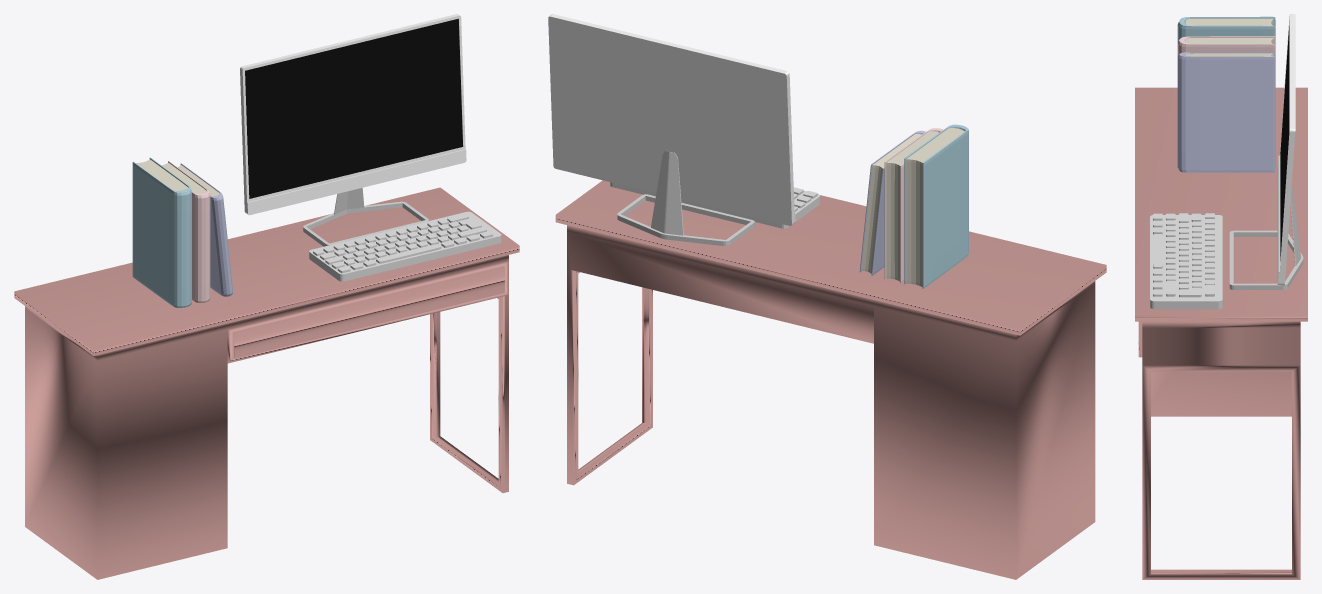
Rendered from desk.glb.
The picture shows the model from 3 angles, left to right: view 1: azimuth 30°, elevation 25°; view 2: azimuth 150°, elevation 25°; view 3: azimuth 270°, elevation 25°; orthographic projection. The views are drawn at different scales.
Parts seen in each view (by area): view 1: Desk, Monitor, Book1, Keyboard, Book2, Book3; view 2: Desk, Monitor, Book1, Book2, Book3, Keyboard; view 3: Desk, Book3, Keyboard, Monitor, Book1, Book2.
Boxes of the visible parts, x1=… form: Desk: x1=14, y1=187, x2=519, y2=579; Monitor: x1=240, y1=14, x2=466, y2=246; Book1: x1=132, y1=157, x2=191, y2=307; Keyboard: x1=309, y1=211, x2=501, y2=281; Book2: x1=162, y1=161, x2=210, y2=302; Book3: x1=178, y1=163, x2=232, y2=296; Desk: x1=555, y1=180, x2=1106, y2=579; Monitor: x1=548, y1=14, x2=795, y2=245; Book1: x1=904, y1=124, x2=968, y2=288; Book2: x1=884, y1=128, x2=943, y2=283; Book3: x1=859, y1=130, x2=925, y2=275; Keyboard: x1=610, y1=182, x2=820, y2=228; Desk: x1=1135, y1=87, x2=1307, y2=579; Book3: x1=1177, y1=52, x2=1275, y2=172; Keyboard: x1=1150, y1=213, x2=1222, y2=309; Monitor: x1=1229, y1=14, x2=1303, y2=289; Book1: x1=1177, y1=16, x2=1275, y2=42; Book2: x1=1177, y1=36, x2=1275, y2=56.
Size of the model in its own units: 6.39 by 5.88 by 2.
